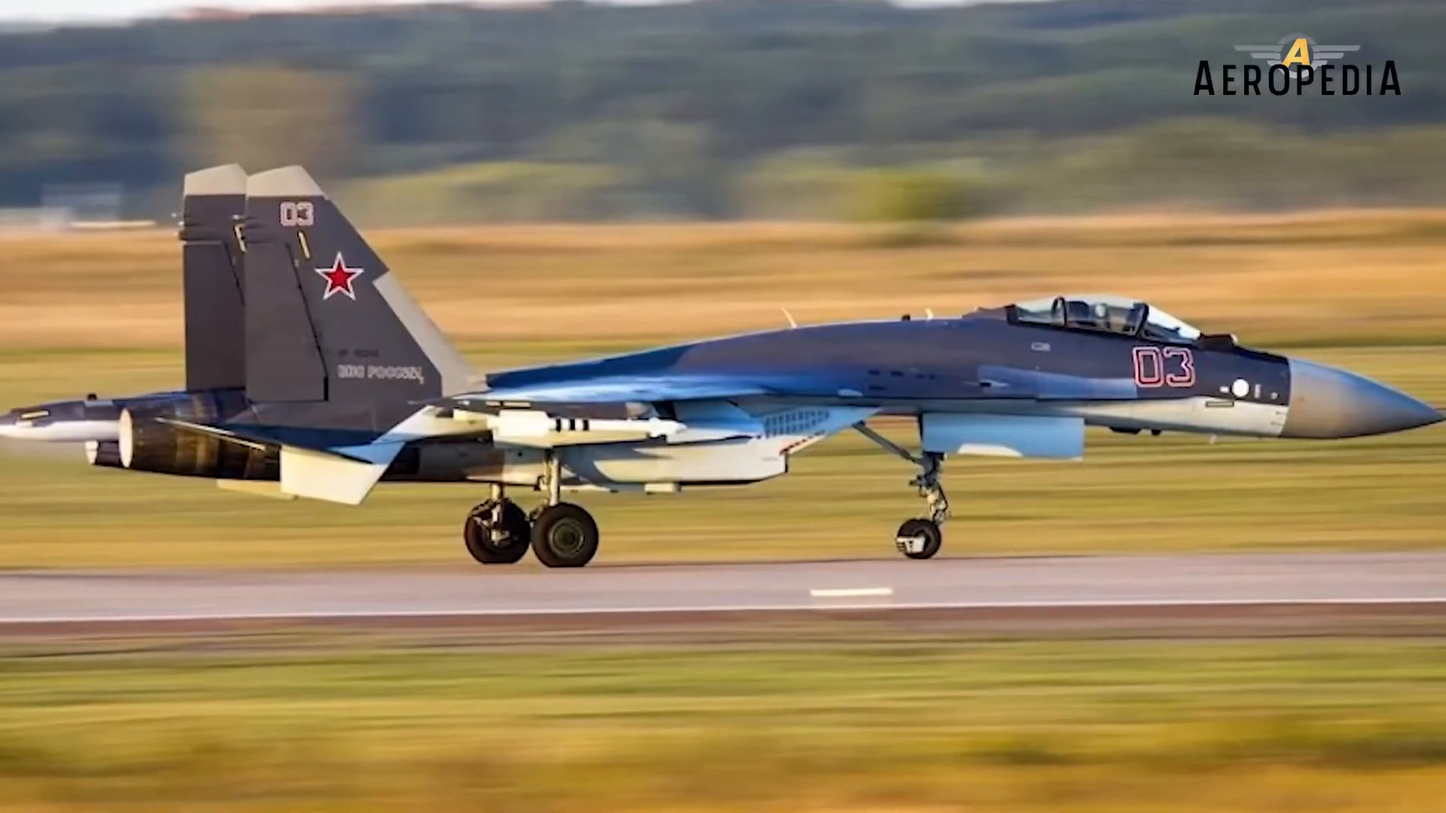Su35: (1, 162, 1446, 569)
